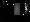person: (24, 1, 30, 19), (15, 4, 21, 16), (5, 3, 11, 14)
